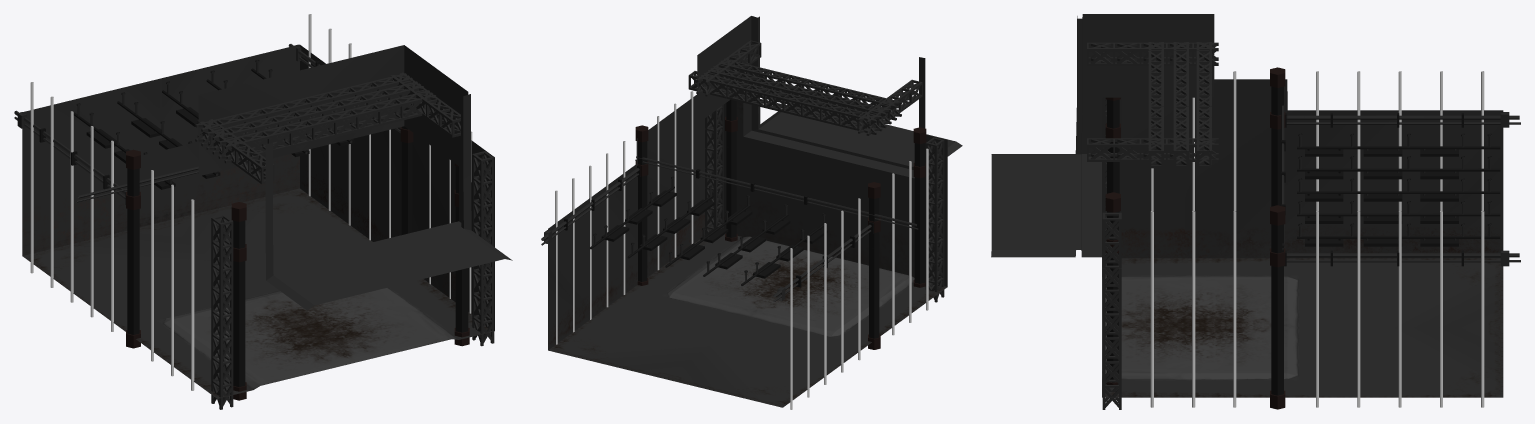
Rendered from Warehouse.fbx.
3 views of the same model, side by side, from view 1: azimuth 30°, elevation 25°; view 2: azimuth 150°, elevation 25°; view 3: azimuth 270°, elevation 25° (orthographic). The views are drawn at different scales.
Visible parts, largest first — view 1: Structure, Pipes, Cylinder, Rafters.004, Rafters.000, Rafters.003, Rafters.002, Light Assembly, Rafters.001, Rafters.005, Rafters.006, Pipes.001; view 2: Structure, Pipes, Cylinder, Light Assembly, Rafters.001, Rafters.000, Rafters.003, Rafters.004, Rafters.002, Pipes.001, Rafters.005, Rafters.006; view 3: Structure, Pipes, Light Assembly, Cylinder, Rafters.003, Rafters.006, Rafters.005, Rafters.002, Rafters.004, Rafters.001, Rafters.000, Pipes.001.
Part boxes in pixels (box(x1,y1,x2,y2)): Structure: box(22, 44, 512, 398); Pipes: box(14, 44, 469, 400); Cylinder: box(30, 14, 472, 390); Rafters.004: box(218, 90, 436, 163); Rafters.000: box(211, 214, 233, 409); Rafters.003: box(472, 151, 494, 346); Rafters.002: box(206, 81, 423, 154); Light Assembly: box(73, 59, 354, 189); Rafters.001: box(195, 73, 412, 146); Rafters.005: box(197, 119, 274, 184); Rafters.006: box(390, 72, 460, 137); Pipes.001: box(76, 166, 198, 202); Structure: box(548, 16, 962, 407); Pipes: box(541, 99, 926, 349); Cylinder: box(555, 91, 928, 409); Light Assembly: box(589, 176, 827, 285); Rafters.001: box(688, 71, 882, 134); Rafters.000: box(925, 137, 944, 302); Rafters.003: box(705, 105, 723, 234); Rafters.004: box(718, 58, 901, 120); Rafters.002: box(707, 66, 891, 128); Pipes.001: box(635, 156, 918, 229); Rafters.005: box(858, 79, 922, 135); Rafters.006: box(696, 40, 761, 96); Structure: box(991, 14, 1503, 397); Pipes: box(1105, 67, 1520, 409); Light Assembly: box(1297, 133, 1500, 246); Cylinder: box(1150, 71, 1484, 407); Rafters.003: box(1102, 212, 1121, 409); Rafters.006: box(1087, 138, 1218, 161); Rafters.005: box(1087, 42, 1218, 65); Rafters.002: box(1173, 42, 1188, 168); Rafters.004: box(1148, 42, 1163, 168); Rafters.001: box(1196, 42, 1211, 168); Rafters.000: box(1102, 97, 1121, 259); Pipes.001: box(1281, 104, 1285, 250).
Bounding box in the file's own units: 2956 × 2245 × 3921.
